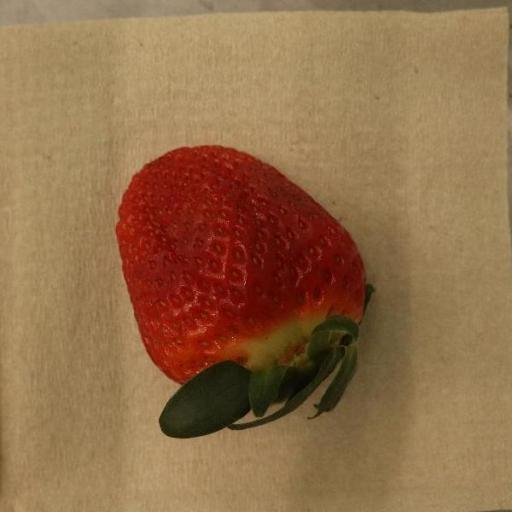Strawberry: (116, 146, 371, 441)
